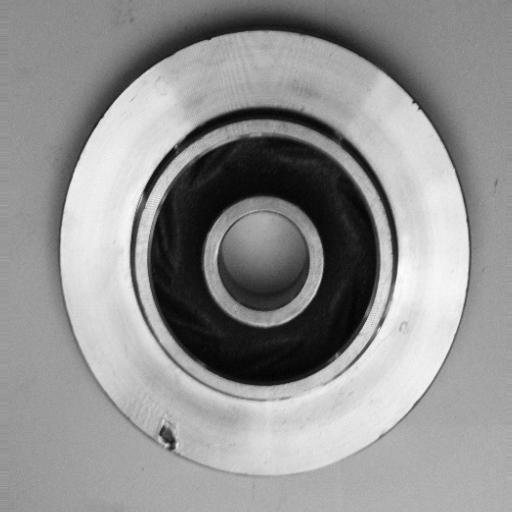scratch: (147, 402, 185, 462)
unpolished_casting: (58, 24, 470, 481)
